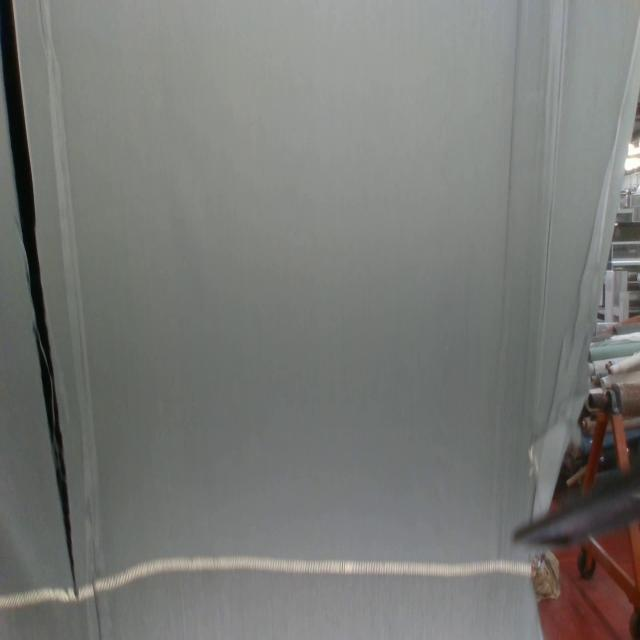crease: (37, 0, 112, 640), (537, 0, 569, 348), (499, 0, 526, 314)
hole: (0, 0, 80, 592)
